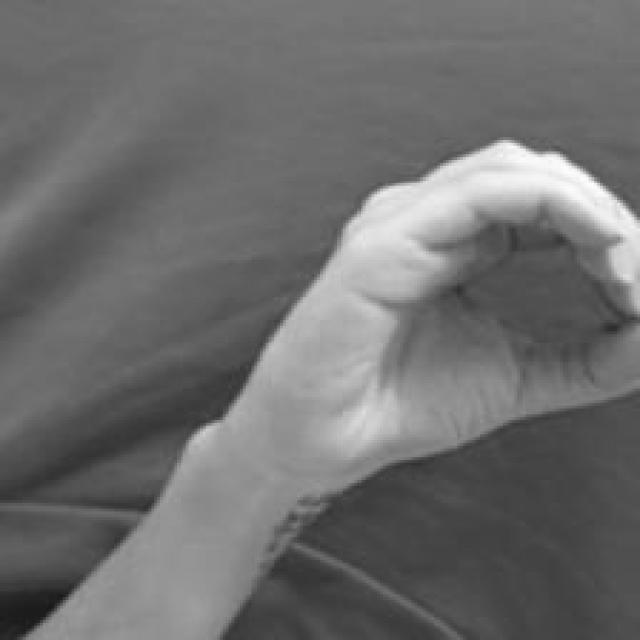O: (222, 138, 640, 530)
